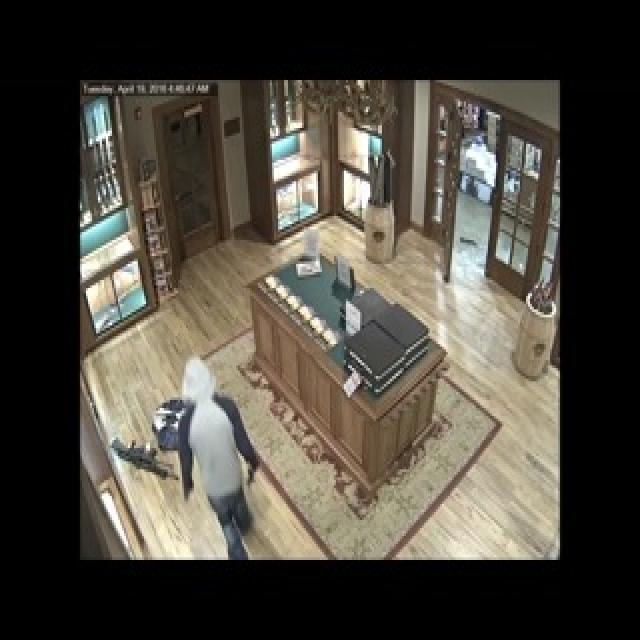thief: (163, 369, 248, 540)
